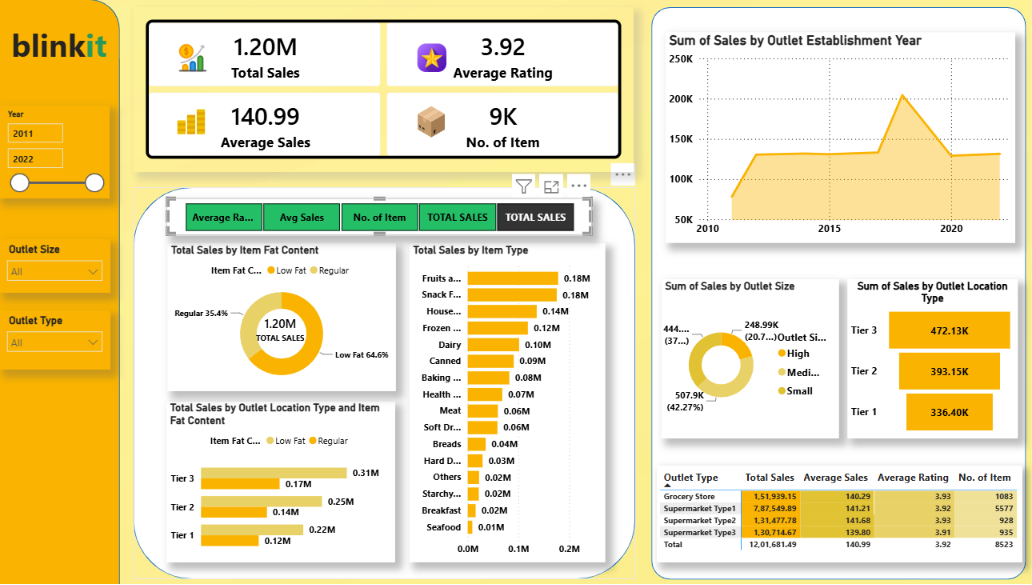

This screenshot's page, from the dashboard's own definition file:
{"tool":"powerbi","page":{"name":"Page 1","canvas":[1400,800],"ordinal":0},"visuals":[{"type":"shape","box":[182.8,254.7,678.1,529.7],"z":0},{"type":"slicer","fields":{"Values":["Matrix .Matrix "]},"box":[226.9,268.7,574.6,50.7],"z":1000},{"type":"cardVisual","fields":{"Data":["Table1.TOTAL SALES","Table1.Average Rating","Table1.Average Sales","Table1.No. of Item"]},"box":[182.8,10.9,678.1,223.4],"z":2000},{"type":"donutChart","fields":{"Y":["Table1.TOTAL SALES"],"Series":["Table1.Item Fat Content"]},"box":[192.5,319.4,337.3,201.5],"z":4000},{"type":"clusteredBarChart","fields":{"Y":["Table1.TOTAL SALES"],"Category":["Table1.Outlet Location Type"],"Series":["Table1.Item Fat Content"]},"box":[192.5,520.9,317.9,238.8],"z":5000},{"type":"clusteredBarChart","fields":{"Y":["Table1.TOTAL SALES"],"Category":["Table1.Item Type"]},"box":[543.3,329.9,265.7,429.9],"z":6000},{"type":"shape","box":[882.8,10.9,506.2,773.4],"z":7000},{"type":"lineChart","fields":{"Category":["Table1.Outlet Establishment Year"],"Y":["Sum(Table1.Sales)"]},"box":[901.5,44.8,473.1,285.1],"z":8000},{"type":"donutChart","fields":{"Series":["Table1.Outlet Size"],"Y":["Sum(Table1.Sales)"]},"box":[895.5,377.6,247.8,214.9],"z":9000},{"type":"funnel","fields":{"Category":["Table1.Outlet Location Type"],"Y":["Sum(Table1.Sales)"]},"box":[1162.7,359.7,214.9,232.8],"z":10000},{"type":"pivotTable","fields":{"Rows":["Table1.Outlet Type"],"Values":["Table1.TOTAL SALES","Table1.Average Sales","Table1.Average Rating","Table1.No. of Item"]},"box":[889.6,629.9,494,131.3],"z":11000},{"type":"cardVisual","fields":{"Data":["Table1.TOTAL SALES"]},"box":[285.1,397,152.2,91],"z":11001},{"type":"shape","box":[0,0,164.1,800],"z":11003},{"type":"textbox","box":[0,26.6,164.1,75],"z":11004},{"type":"slicer","fields":{"Values":["Table1.Outlet Establishment Year"]},"box":[0,143.8,164.1,150],"z":11005},{"type":"slicer","fields":{"Values":["Table1.Outlet Size"]},"box":[1.6,323.4,164.1,70.3],"z":11006},{"type":"slicer","fields":{"Values":["Table1.Outlet Type"]},"box":[1.6,420.3,164.1,85.9],"z":11007}]}

Visuals, with their boxes in screenshot pixels (x1, y1, x2, y2), scaled from the page's 1400x800 canvas onto the 1032x585 screenshot:
shape: <bbox>135, 186, 635, 574</bbox>
slicer - Matrix .Matrix : <bbox>167, 196, 591, 234</bbox>
cardVisual - Table1.TOTAL SALES x Table1.Average Rating: <bbox>135, 8, 635, 171</bbox>
donutChart - Table1.TOTAL SALES x Table1.Item Fat Content: <bbox>142, 234, 391, 381</bbox>
clusteredBarChart - Table1.TOTAL SALES x Table1.Outlet Location Type: <bbox>142, 381, 376, 556</bbox>
clusteredBarChart - Table1.TOTAL SALES x Table1.Item Type: <bbox>400, 241, 596, 556</bbox>
shape: <bbox>651, 8, 1024, 574</bbox>
lineChart - Table1.Outlet Establishment Year x Sum(Table1.Sales): <bbox>665, 33, 1013, 241</bbox>
donutChart - Table1.Outlet Size x Sum(Table1.Sales): <bbox>660, 276, 843, 433</bbox>
funnel - Table1.Outlet Location Type x Sum(Table1.Sales): <bbox>857, 263, 1015, 433</bbox>
pivotTable - Table1.Outlet Type x Table1.TOTAL SALES: <bbox>656, 461, 1020, 557</bbox>
cardVisual - Table1.TOTAL SALES: <bbox>210, 290, 322, 357</bbox>
shape: <bbox>0, 0, 121, 584</bbox>
textbox: <bbox>0, 19, 121, 74</bbox>
slicer - Table1.Outlet Establishment Year: <bbox>0, 105, 121, 215</bbox>
slicer - Table1.Outlet Size: <bbox>1, 236, 122, 288</bbox>
slicer - Table1.Outlet Type: <bbox>1, 307, 122, 370</bbox>
